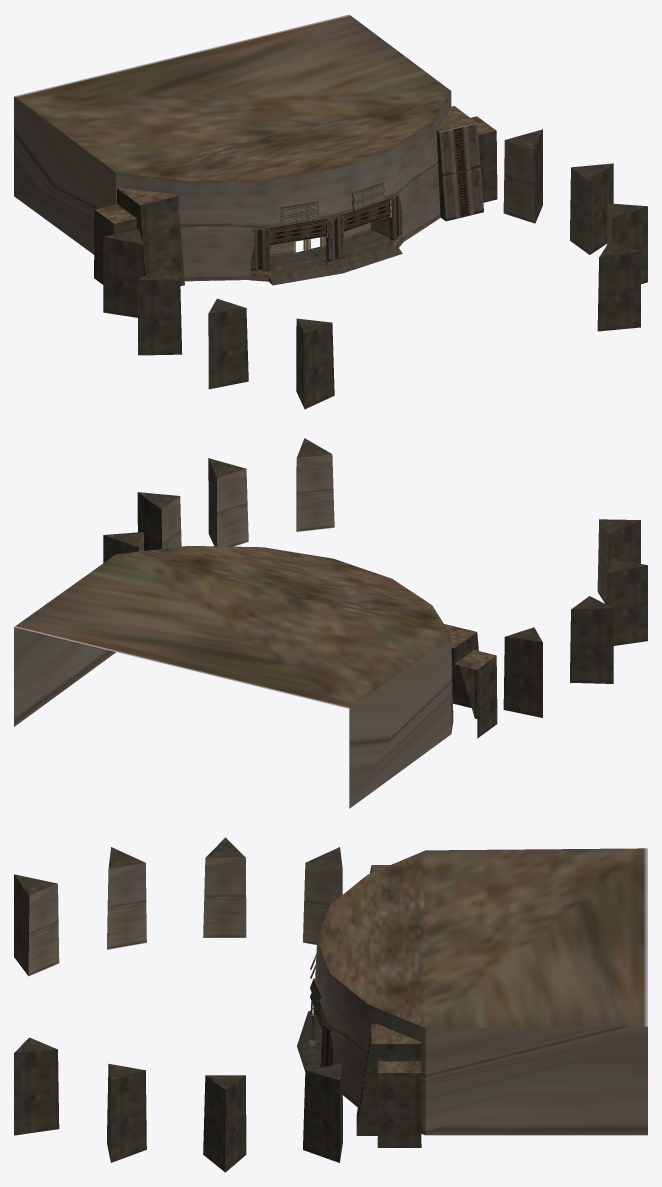
File: thm_lok_nyms_stronghold_r0_mesh_l4.fbx
3 renders of one model, top to bottom at view 1: azimuth 30°, elevation 25°; view 2: azimuth 150°, elevation 25°; view 3: azimuth 270°, elevation 25°, orthographic. The views are drawn at different scales.
Parts seen in each view (by area): view 1: mesh_node; view 2: mesh_node; view 3: mesh_node.
Part boxes in pixels (x1=…): mesh_node: x1=14, y1=14, x2=647, y2=409; mesh_node: x1=14, y1=438, x2=647, y2=808; mesh_node: x1=14, y1=837, x2=647, y2=1172.
Size of the model in its own units: 109 by 21.84 by 115.
